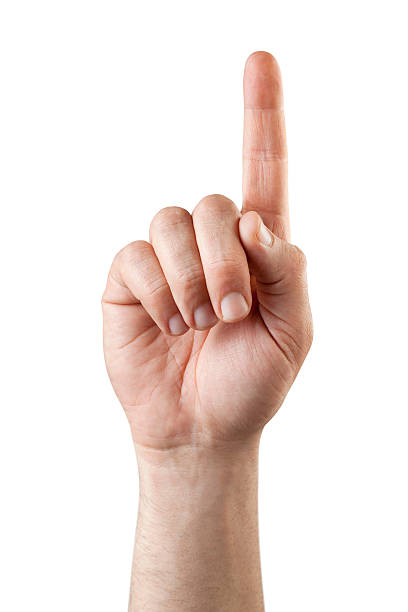move: (98, 51, 314, 450)
